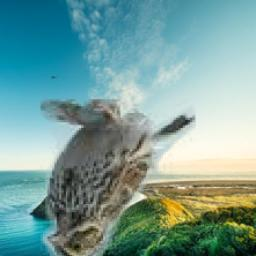Sparrow: (41, 100, 196, 256)
